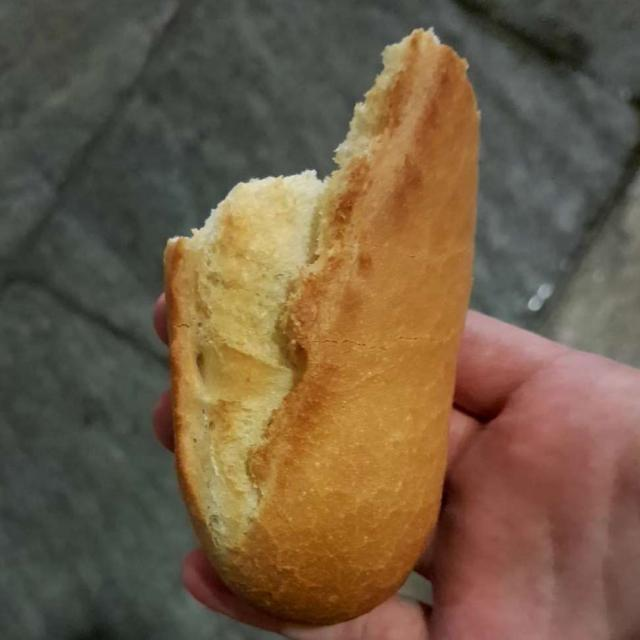bread: (160, 50, 463, 600)
